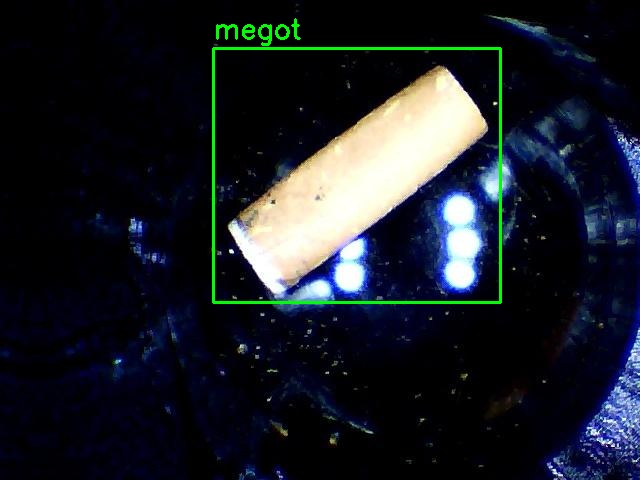megot: (213, 48, 500, 302)
